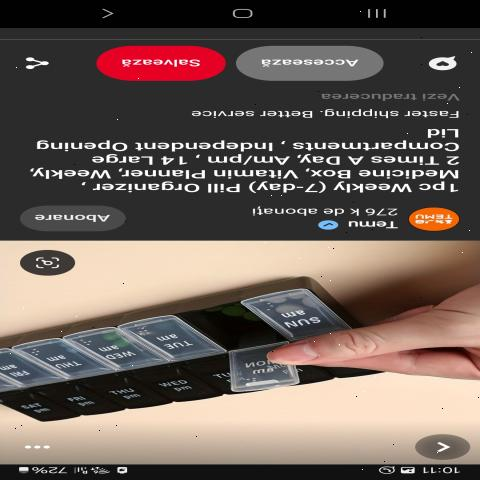PillBox: (0, 267, 434, 428)
